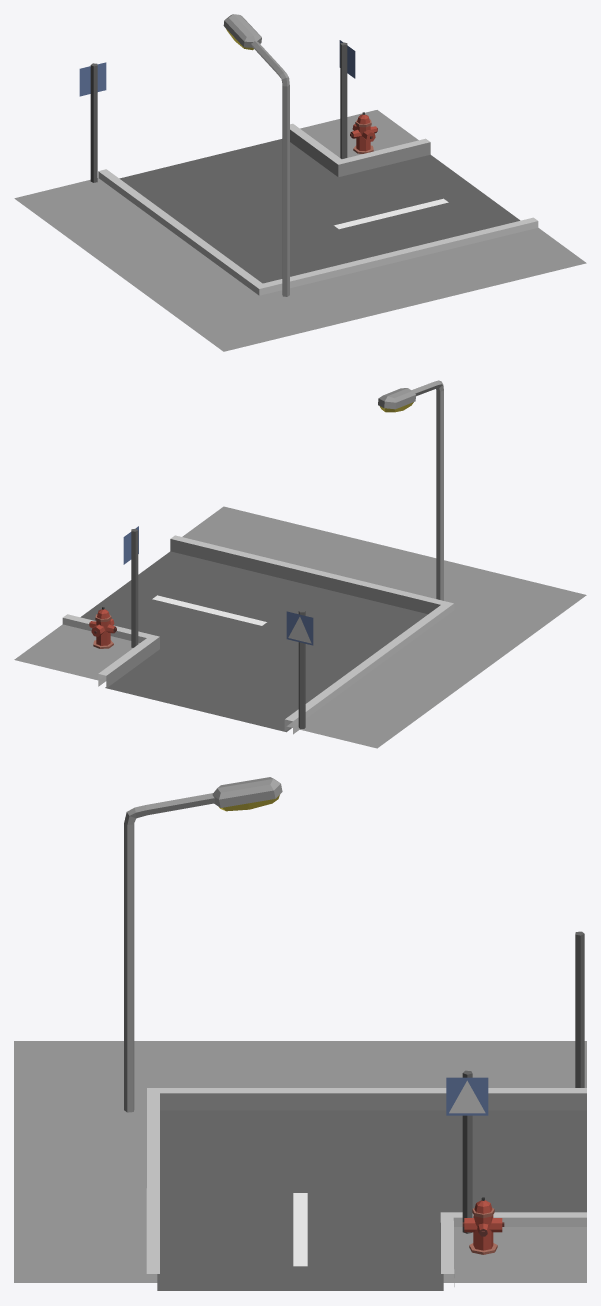
The model's file is street-turn-transformed.glb.
The picture shows the model from 3 angles, top to bottom: view 1: azimuth 30°, elevation 25°; view 2: azimuth 150°, elevation 25°; view 3: azimuth 270°, elevation 25°; orthographic projection. The views are drawn at different scales.
Parts seen in each view (by area): view 1: road_tile_1x1_11; view 2: road_tile_1x1_11; view 3: road_tile_1x1_11.
Part boxes in pixels (x1,y1,x2,y2): road_tile_1x1_11: [14, 14, 586, 351]; road_tile_1x1_11: [14, 380, 586, 748]; road_tile_1x1_11: [14, 777, 586, 1290].
Size of the model in its own units: 8 by 5.25 by 8.
Materials: 1 (1 with a texture image).
